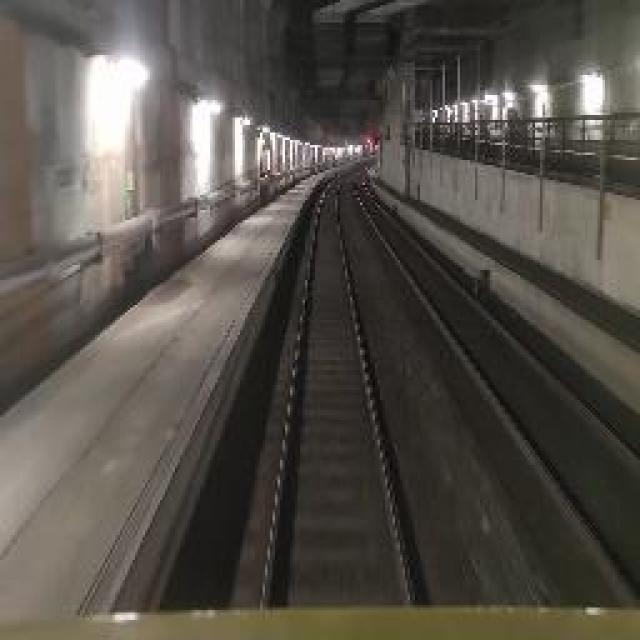rail: (234, 158, 452, 605)
